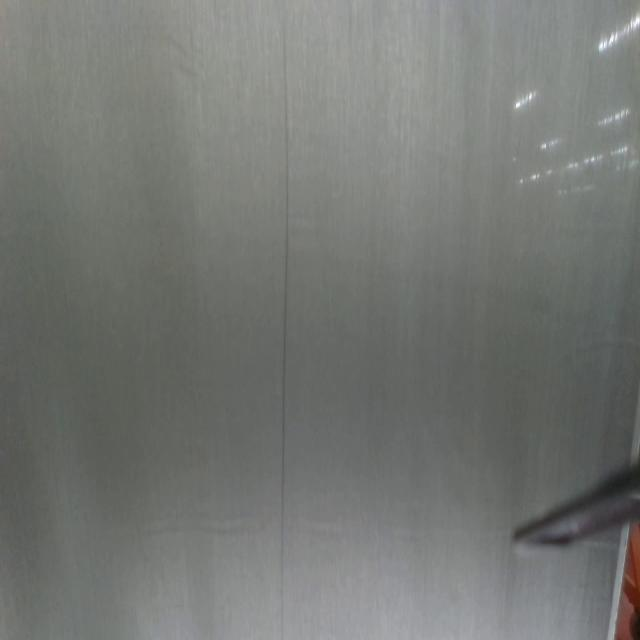crease: (279, 23, 290, 640)
